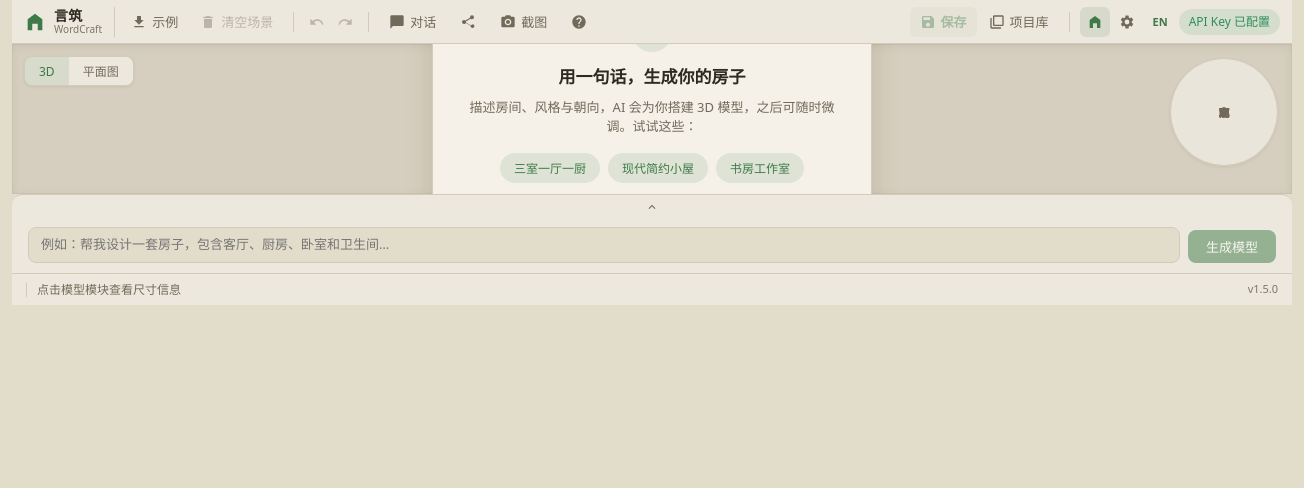
Test: HomePage 对话交互 › 生成成功后显示摘要并更新场景模型
Type "设计一个小屋" into the text box with placeholder "例如：帮我设计一套房子，包含客厅、厨房、卧室和卫生间…" at (604, 245), box [28,227,1180,263]
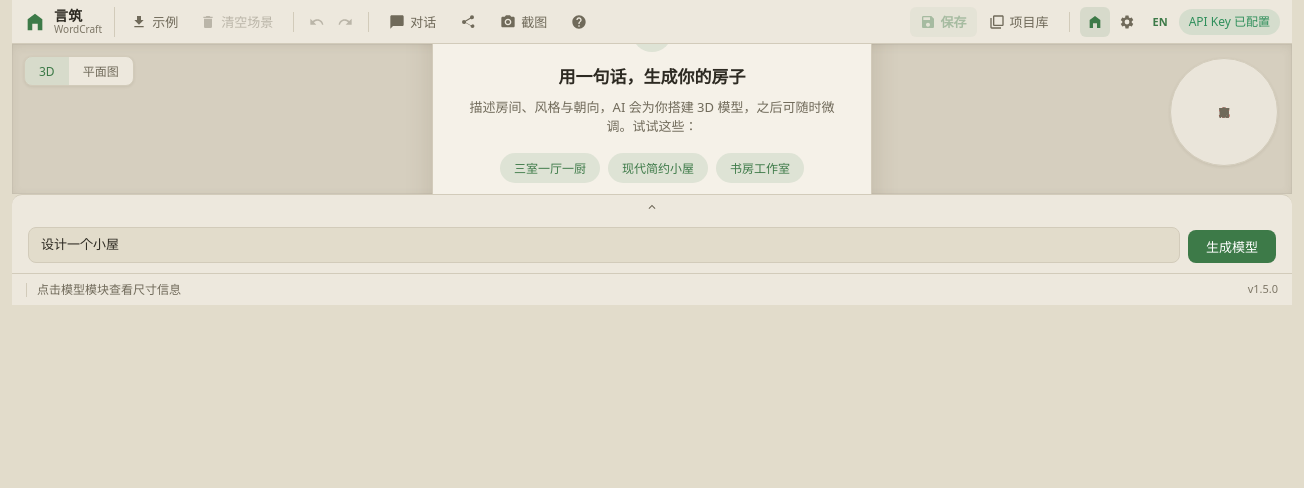
Click the button "生成模型" at (1232, 246), box [1188,230,1276,263]
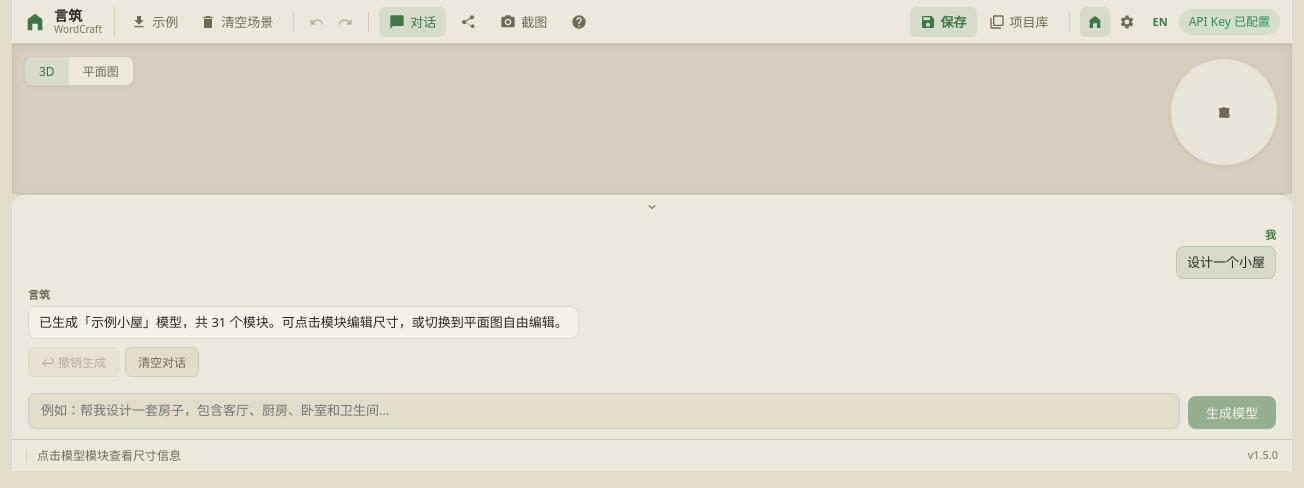
Expected: the text "已生成「示例小屋」模型，共 31 个模块。可点击模块编辑尺寸，或切换到平面图自由编辑。" is shown, [28,306,579,339]
